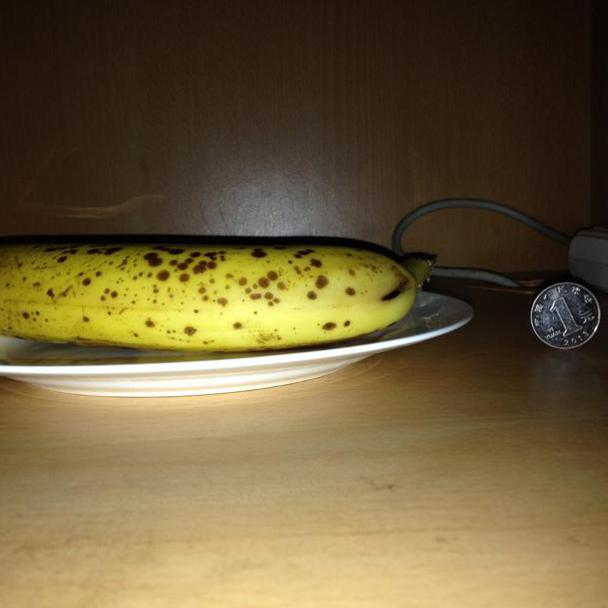banana: (6, 230, 428, 340)
